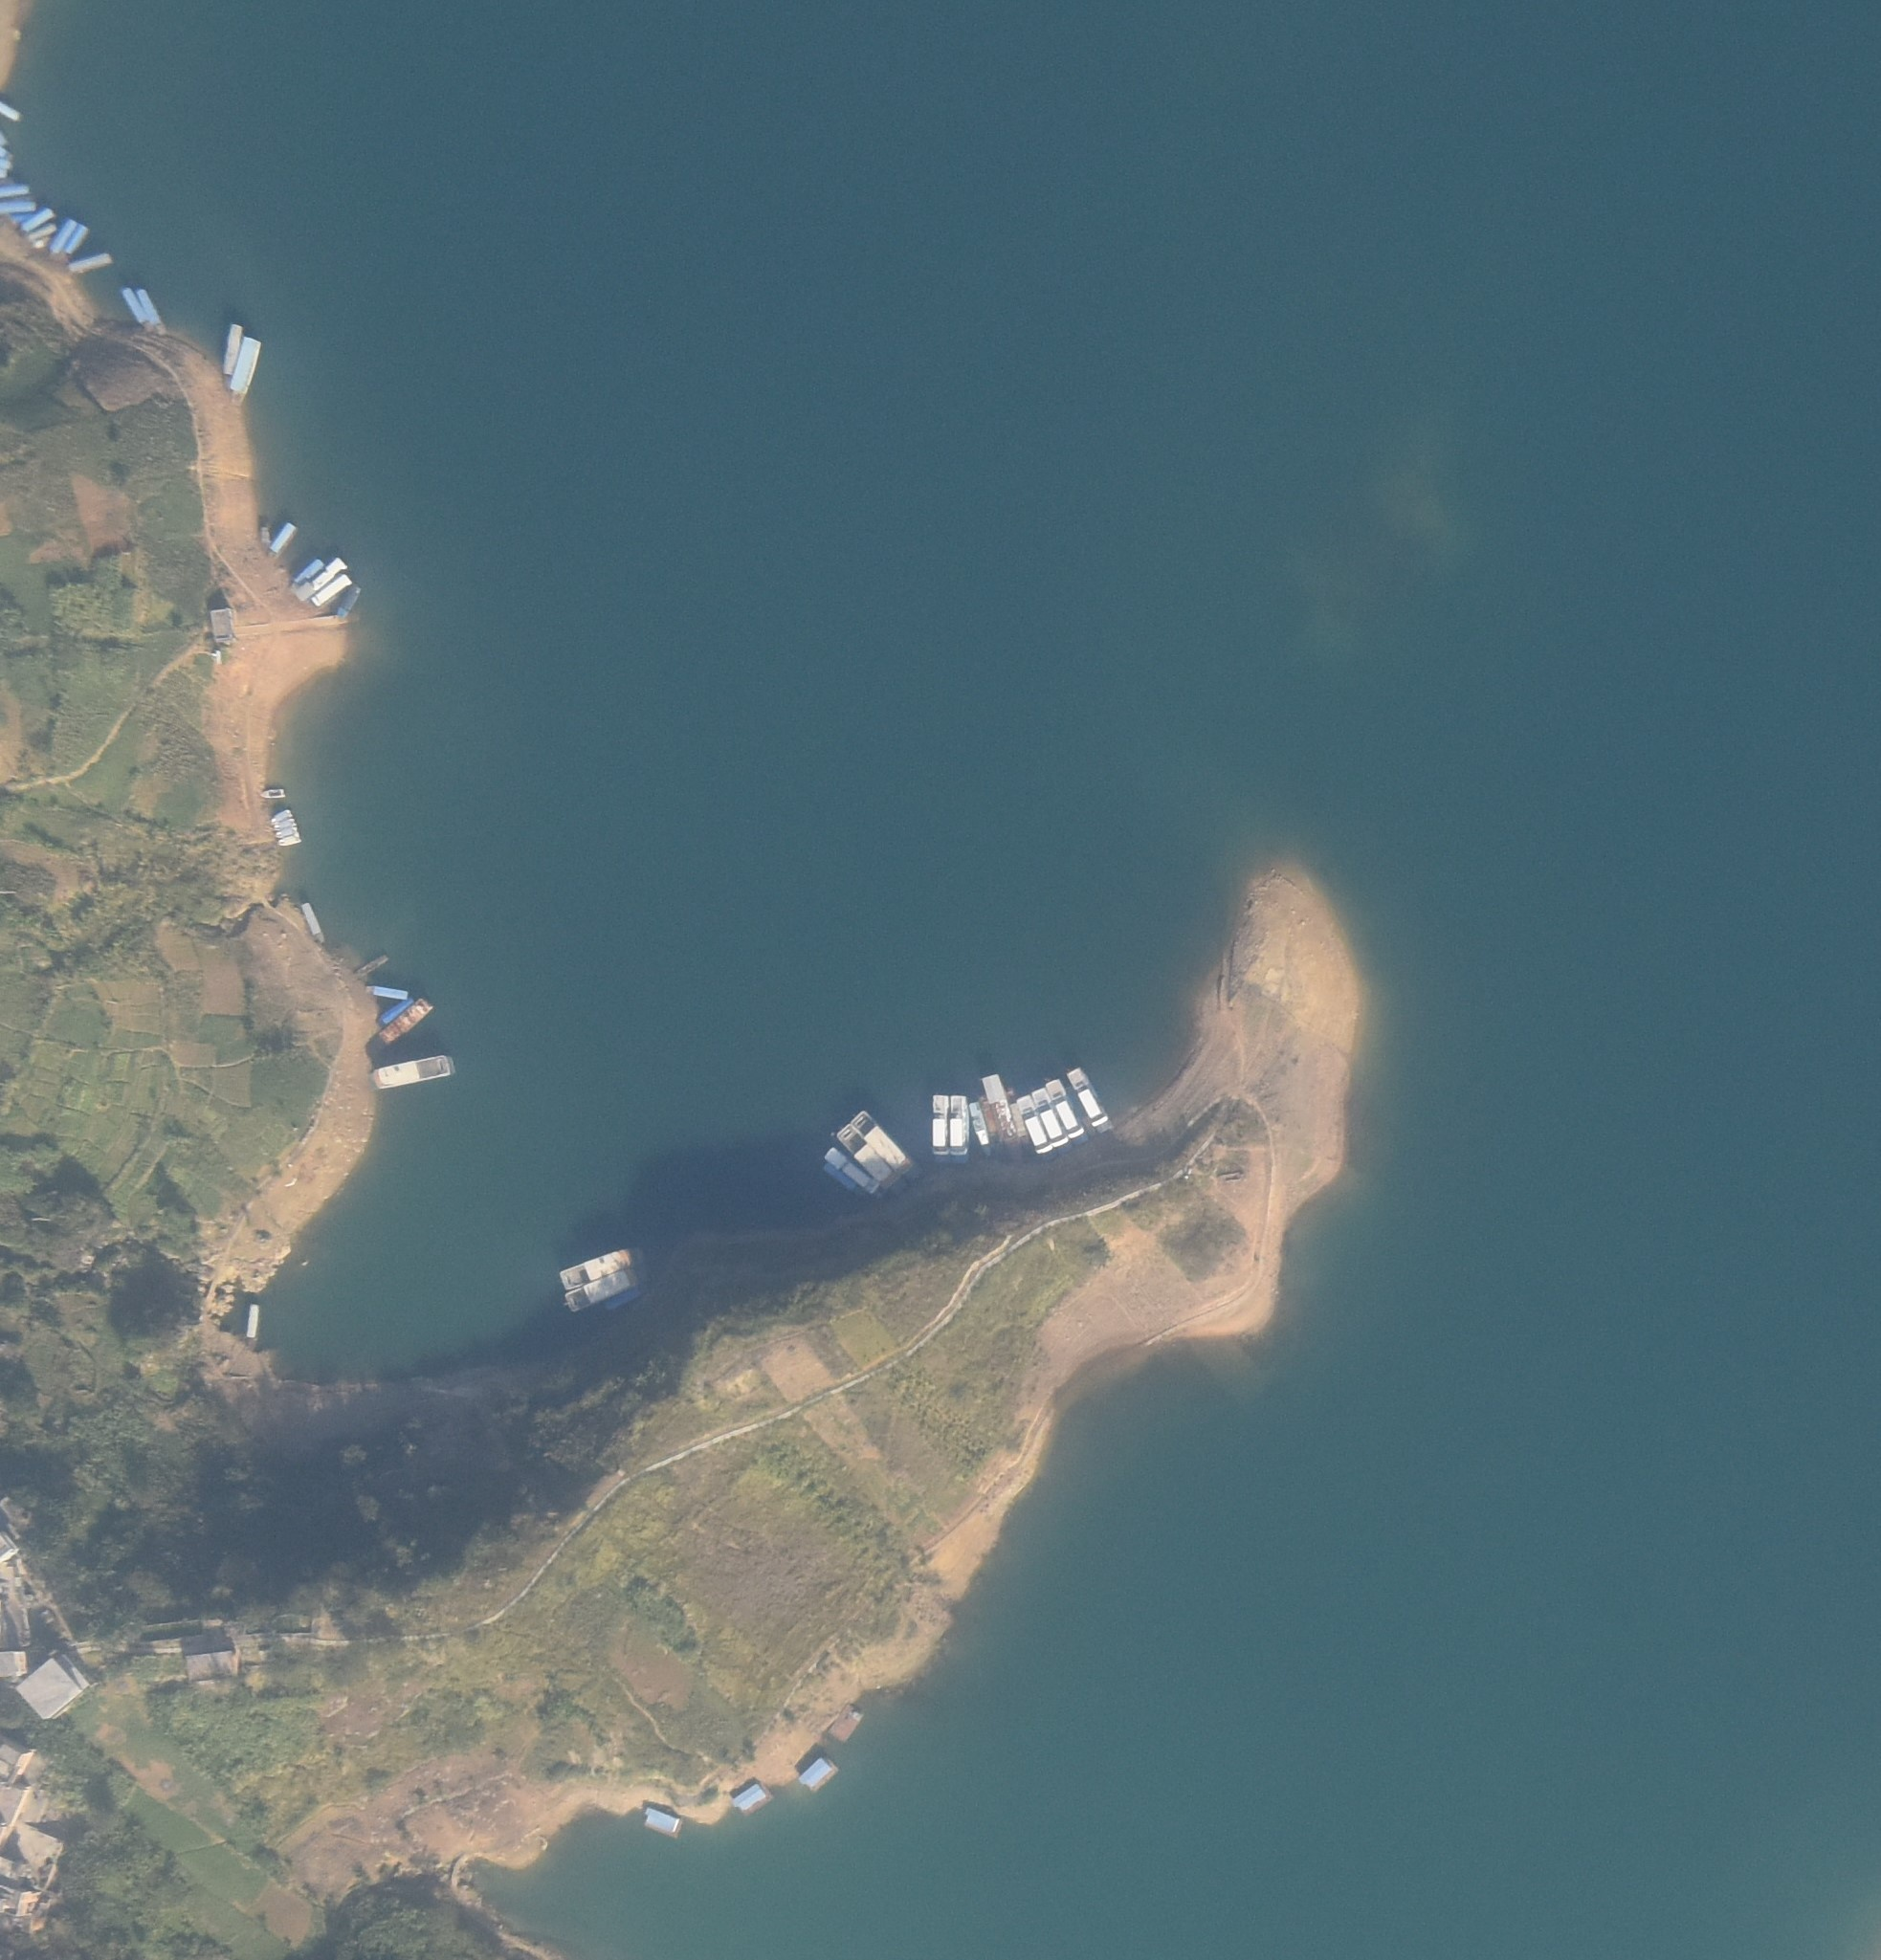building: (2, 1736, 63, 1935), (12, 1655, 84, 1718), (182, 1634, 236, 1678), (2, 1494, 26, 1563), (210, 607, 238, 642), (3, 1647, 26, 1678)
prefabricated-house: (728, 1781, 772, 1815), (794, 1757, 836, 1789), (829, 1701, 863, 1739), (639, 1806, 681, 1836)
ship: (850, 1106, 917, 1185), (833, 1127, 892, 1194), (819, 1148, 880, 1204), (558, 1249, 640, 1290), (562, 1276, 647, 1312), (1045, 1078, 1088, 1146), (371, 1052, 453, 1087), (374, 999, 432, 1048), (1066, 1067, 1108, 1134), (983, 1074, 1018, 1153), (1031, 1083, 1069, 1148), (1017, 1094, 1052, 1158), (297, 553, 346, 599), (231, 336, 259, 402), (136, 289, 164, 338), (931, 1094, 952, 1155), (119, 282, 145, 331), (310, 572, 350, 604), (381, 994, 413, 1027), (290, 557, 324, 588), (950, 1095, 968, 1155), (1008, 1099, 1029, 1148), (47, 219, 75, 255), (224, 324, 243, 376), (271, 520, 297, 557), (980, 1095, 997, 1150), (969, 1101, 987, 1153), (301, 899, 324, 940), (336, 583, 360, 618), (17, 206, 52, 231), (369, 983, 411, 1003), (65, 252, 110, 269), (359, 952, 387, 980), (65, 224, 89, 255), (245, 1305, 261, 1344), (2, 199, 37, 214), (3, 100, 23, 124), (28, 224, 59, 238), (259, 521, 271, 553), (28, 234, 52, 249), (5, 212, 33, 224), (2, 184, 30, 196), (275, 835, 301, 847), (261, 787, 287, 798), (269, 810, 292, 821), (278, 826, 297, 836), (273, 817, 294, 826), (2, 149, 14, 157), (2, 161, 14, 170), (2, 135, 9, 143), (3, 170, 9, 180)
